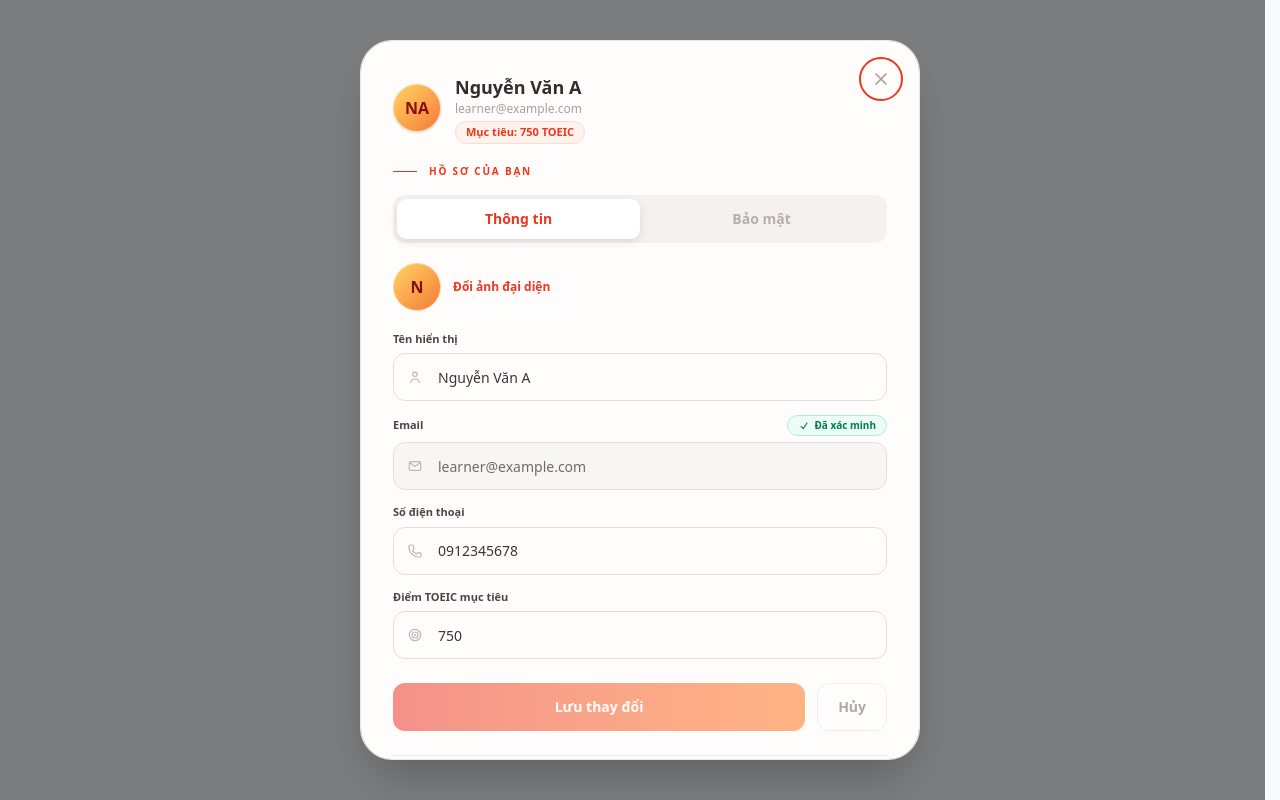
it: ProfileDialog › cho phép chuyển đổi giữa tab Thông tin và Bảo mật
Expected: the field labelled "Tên hiển thị" is shown, x1=393 y1=353 x2=887 y2=401
Click the button "Bảo mật": [762, 218] box x1=640 y1=198 x2=883 y2=238
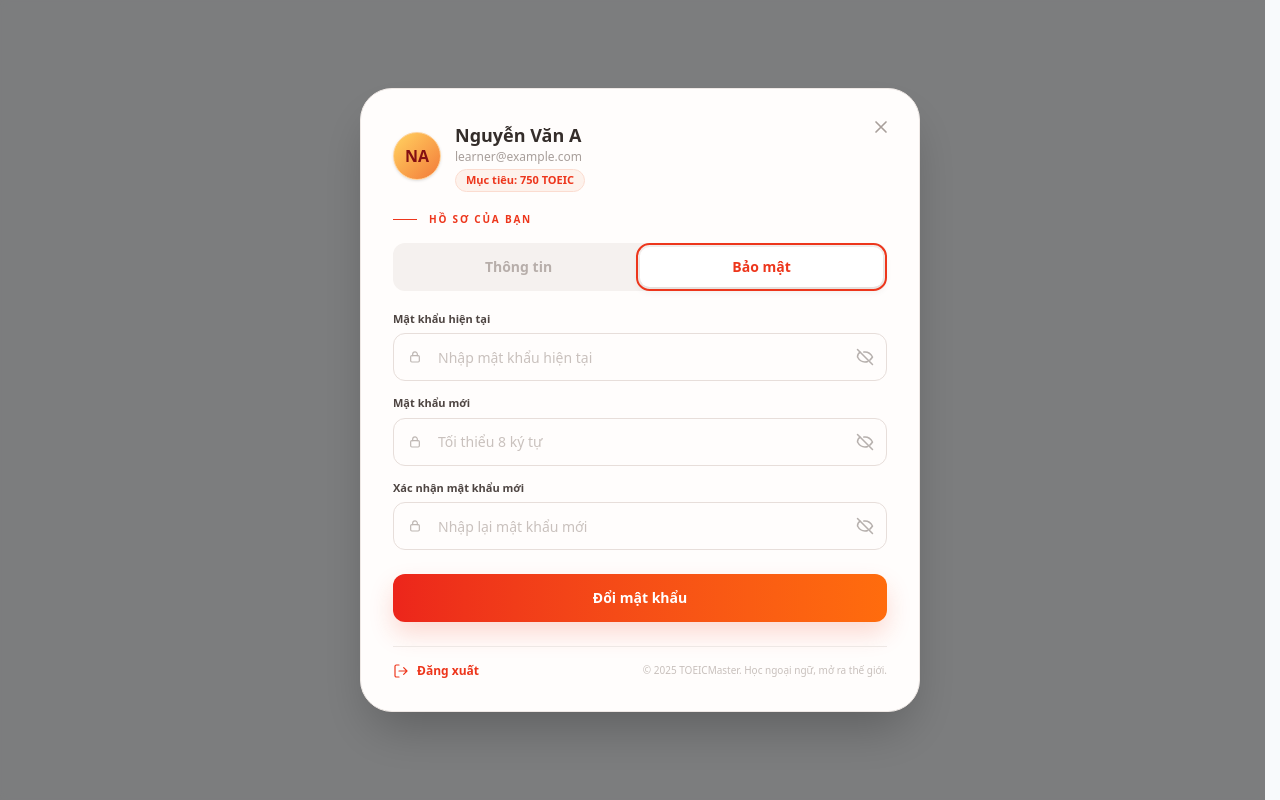
Expected: the password field labelled "Mật khẩu hiện tại" is shown, x1=393 y1=333 x2=887 y2=381
Click the button "Thông tin": [518, 266] box x1=397 y1=246 x2=640 y2=286
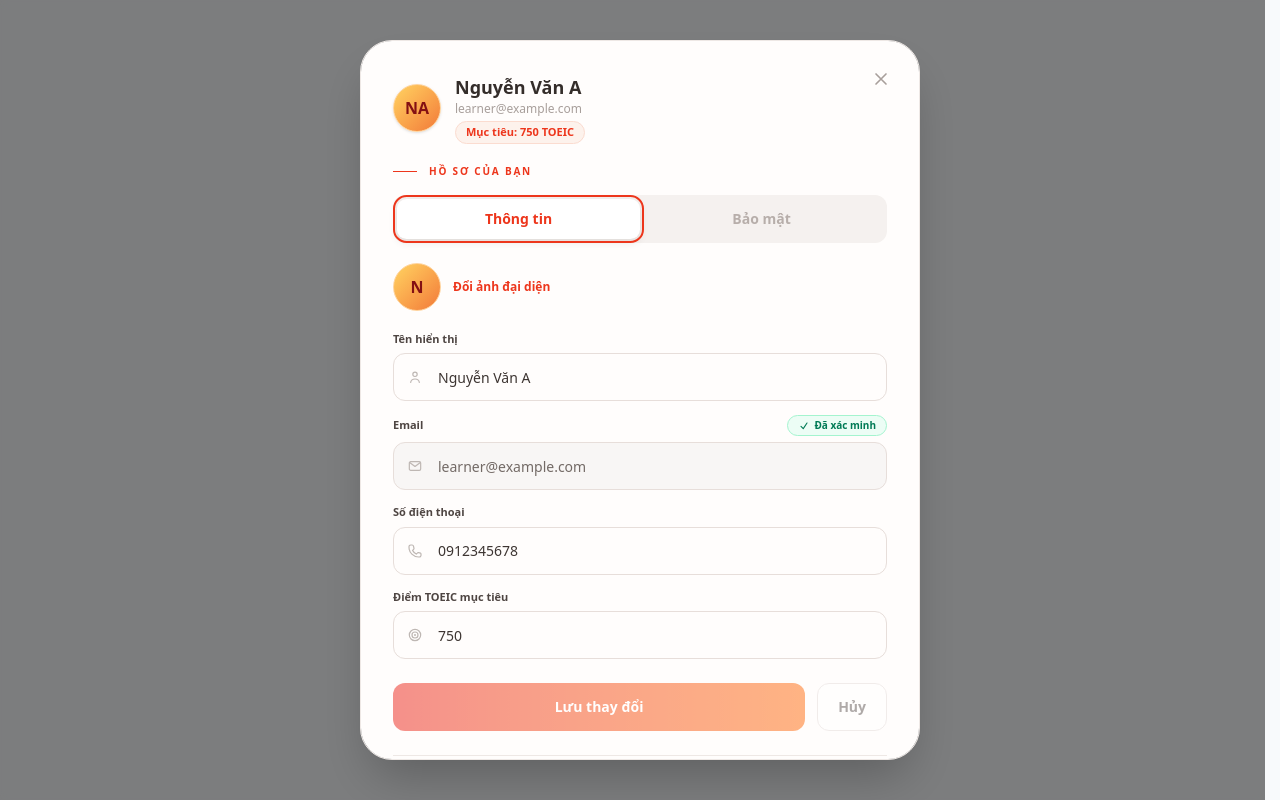
Expected: the field labelled "Tên hiển thị" is shown, x1=393 y1=353 x2=887 y2=401
